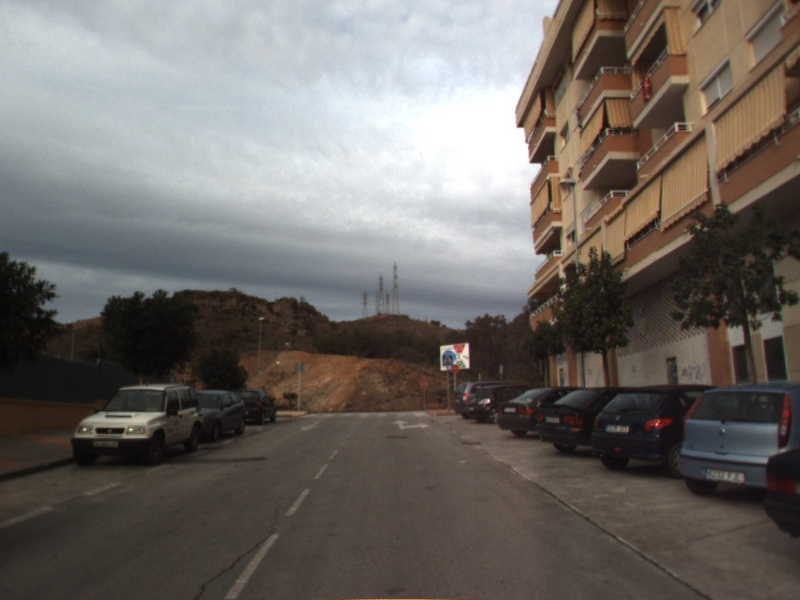STRAIGHT_RIGHT: (389, 417, 431, 431)
